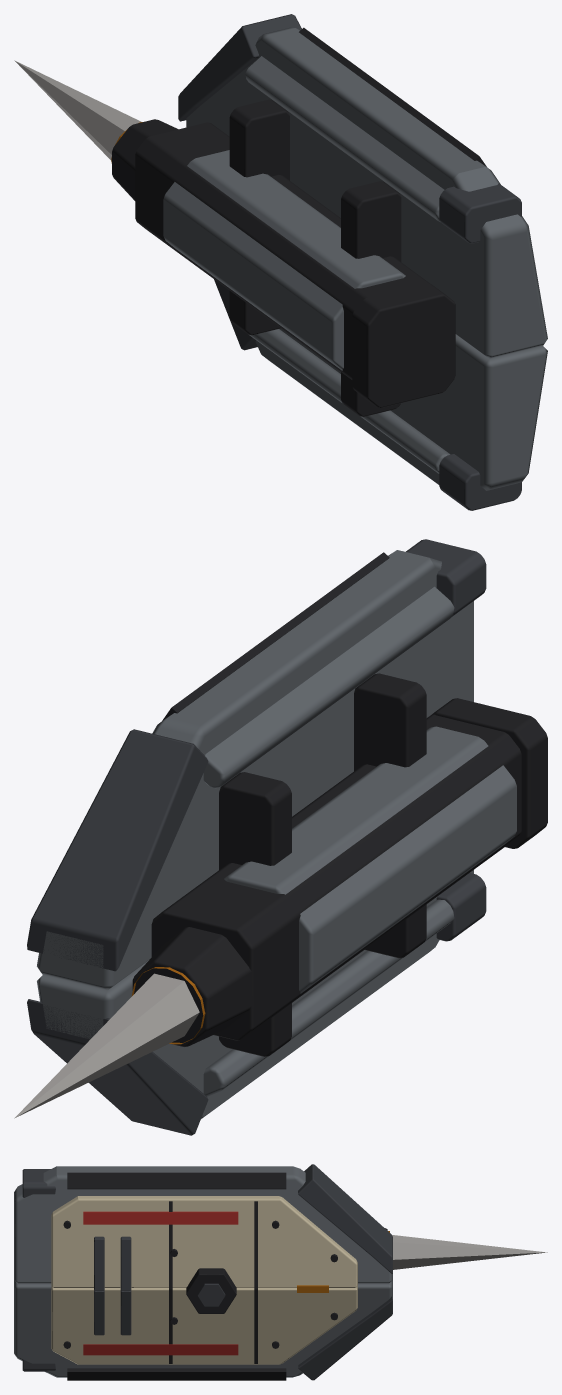
The model's file is pilebunker_5.glb.
The picture shows the model from 3 angles, top to bottom: view 1: azimuth 30°, elevation 25°; view 2: azimuth 150°, elevation 25°; view 3: azimuth 270°, elevation 25°; orthographic projection. The views are drawn at different scales.
Parts seen in each view (by area): view 1: ShieldUpper, Housing, ShieldLower, Core, BackCap, RimTop, Brace1, Brace0, RimBottom, GuardUpper, SpikeBlade, RimCapTop (+4 smaller); view 2: ShieldUpper, Housing, GuardUpper, Core, RimTop, ShieldLower, SpikeBlade, Brace1, Brace0, GuardLower, PortCollar, RimBottom (+4 smaller); view 3: FaceUpper, FaceLower, ShieldUpper, ShieldLower, RimTrimTop, GuardUpper, RimTrimBottom, SpikeBlade, BandUpper, GuardLower, BandLower, Boss (+10 smaller).
Boxes of the visible parts, x1=… form: ShieldUpper: x1=186, y1=27, x2=547, y2=358; Housing: x1=163, y1=150, x2=405, y2=370; ShieldLower: x1=255, y1=328, x2=547, y2=490; Core: x1=135, y1=122, x2=429, y2=379; BackCap: x1=352, y1=283, x2=455, y2=407; RimTop: x1=245, y1=56, x2=444, y2=221; Brace1: x1=229, y1=99, x2=289, y2=335; Brace0: x1=341, y1=181, x2=401, y2=416; RimBottom: x1=249, y1=329, x2=450, y2=473; GuardUpper: x1=178, y1=14, x2=301, y2=121; SpikeBlade: x1=14, y1=60, x2=141, y2=160; RimCapTop: x1=439, y1=183, x2=521, y2=243; ShieldUpper: x1=37, y1=550, x2=473, y2=990; Housing: x1=224, y1=726, x2=516, y2=993; GuardUpper: x1=27, y1=729, x2=208, y2=971; Core: x1=151, y1=714, x2=521, y2=1040; RimTop: x1=203, y1=586, x2=454, y2=788; ShieldLower: x1=37, y1=870, x2=473, y2=1118; SpikeBlade: x1=14, y1=973, x2=199, y2=1118; Brace1: x1=219, y1=772, x2=291, y2=1056; Brace0: x1=354, y1=673, x2=426, y2=958; GuardLower: x1=27, y1=999, x2=208, y2=1135; PortCollar: x1=132, y1=927, x2=251, y2=1046; RimBottom: x1=203, y1=899, x2=454, y2=1096; FaceUpper: x1=51, y1=1196, x2=357, y2=1287; FaceLower: x1=51, y1=1286, x2=357, y2=1364; ShieldUpper: x1=14, y1=1166, x2=392, y2=1283; ShieldLower: x1=14, y1=1280, x2=392, y2=1377; RimTrimTop: x1=67, y1=1172, x2=286, y2=1189; GuardUpper: x1=298, y1=1164, x2=392, y2=1273; RimTrimBottom: x1=67, y1=1368, x2=286, y2=1380; SpikeBlade: x1=392, y1=1235, x2=547, y2=1269; BandUpper: x1=83, y1=1211, x2=238, y2=1224; GuardLower: x1=298, y1=1296, x2=392, y2=1380; BandLower: x1=83, y1=1344, x2=238, y2=1355; Boss: x1=186, y1=1268, x2=236, y2=1313.
Bounding box in the file's own units: 1.29 × 2.15 × 5.
